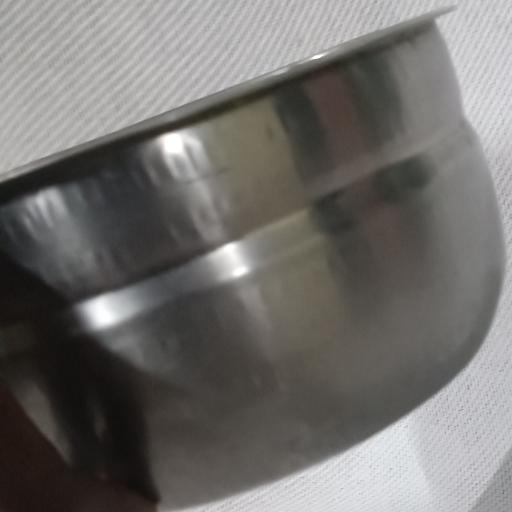vessel: (0, 13, 503, 509)
